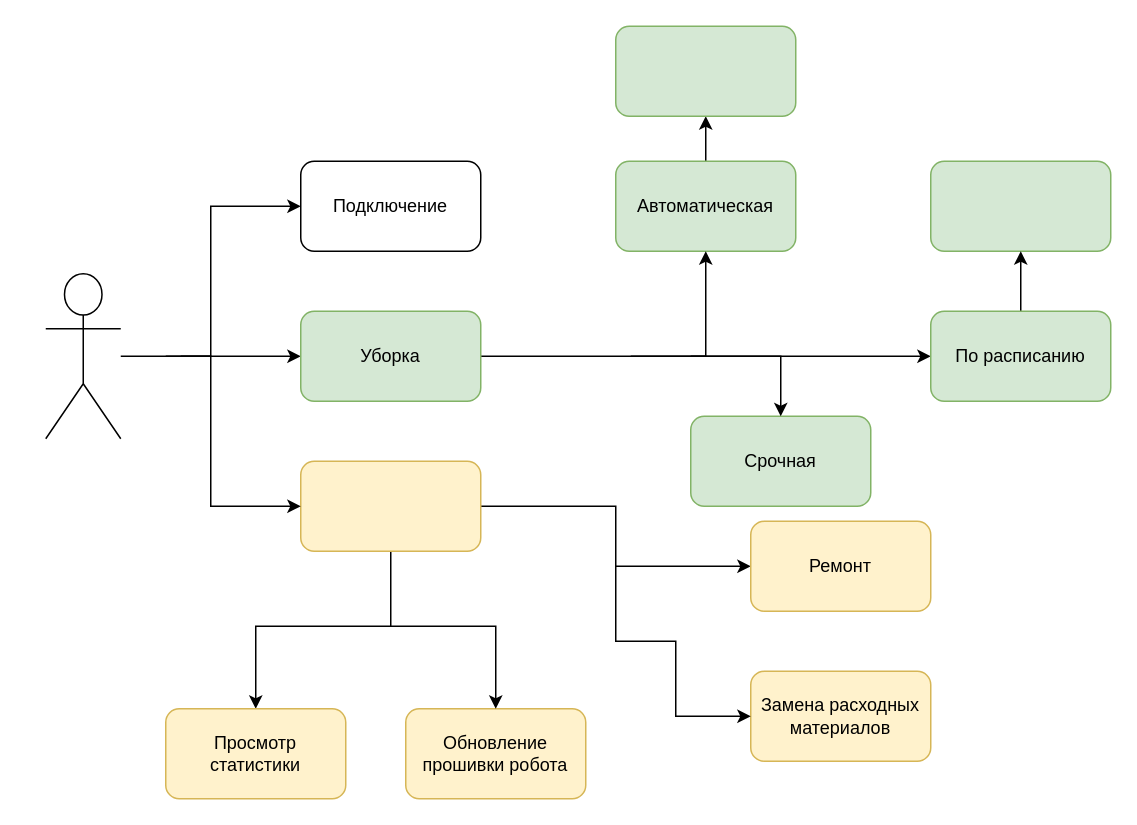
The diagram is 1137 pixels wide and 825 high, and some of its shapes have lost their labels. The shapes that lost their labels are listed below. From the top down, each one's centre as x and y in pixels, then its label:
At pixel 705 70: "Сценарии умного дома".
At pixel 1020 205: "График".
At pixel 82 355: "пользователь".
At pixel 390 505: "Обслуживание".
